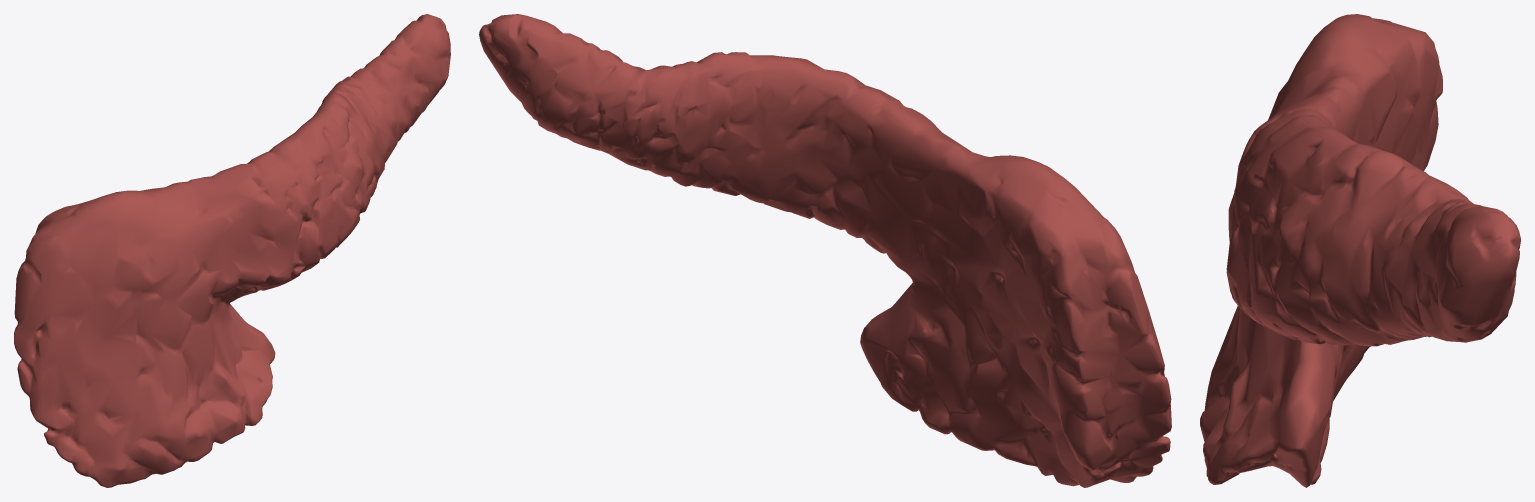
The model's file is FMA7198nsn.glb.
The picture shows the model from 3 angles, left to right: view 1: azimuth 30°, elevation 25°; view 2: azimuth 150°, elevation 25°; view 3: azimuth 270°, elevation 25°; orthographic projection. The views are drawn at different scales.
Visible parts, largest first — view 1: FMA7198nsn; view 2: FMA7198nsn; view 3: FMA7198nsn.
Part boxes in pixels (x1,y1,x2,y2): FMA7198nsn: [14, 14, 450, 487]; FMA7198nsn: [479, 14, 1171, 487]; FMA7198nsn: [1200, 14, 1520, 487].
Bounding box in the file's own units: 0.113 × 0.0723 × 0.0391.
